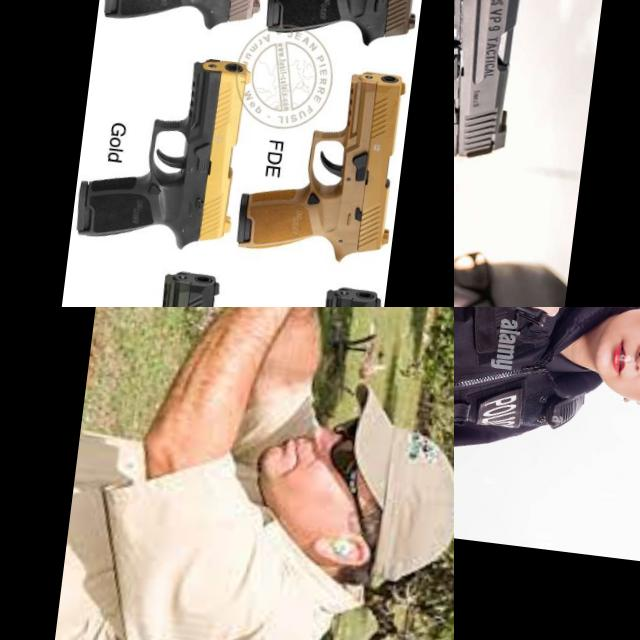handgun: (70, 41, 254, 258), (230, 56, 408, 270), (454, 0, 568, 197), (98, 0, 284, 102), (260, 0, 436, 105), (45, 255, 223, 307), (300, 307, 389, 375), (520, 307, 640, 355)
